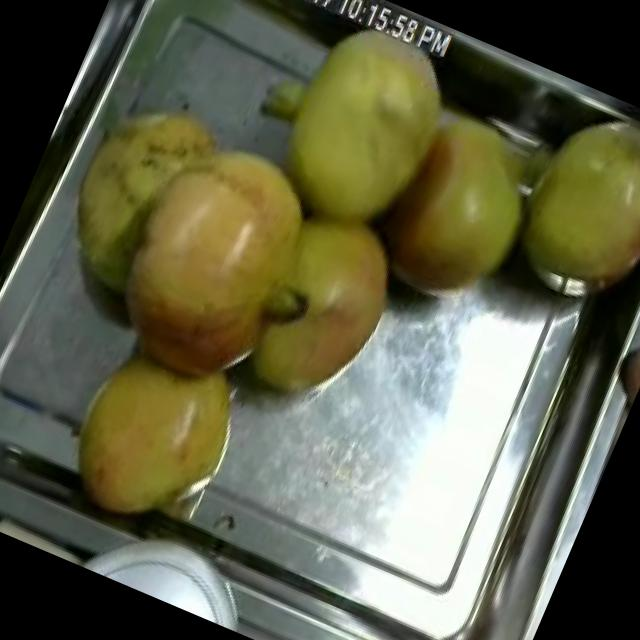fruit: (70, 92, 352, 420), (237, 0, 488, 247), (340, 78, 570, 340), (31, 312, 268, 558), (478, 81, 640, 332), (598, 308, 640, 422)
